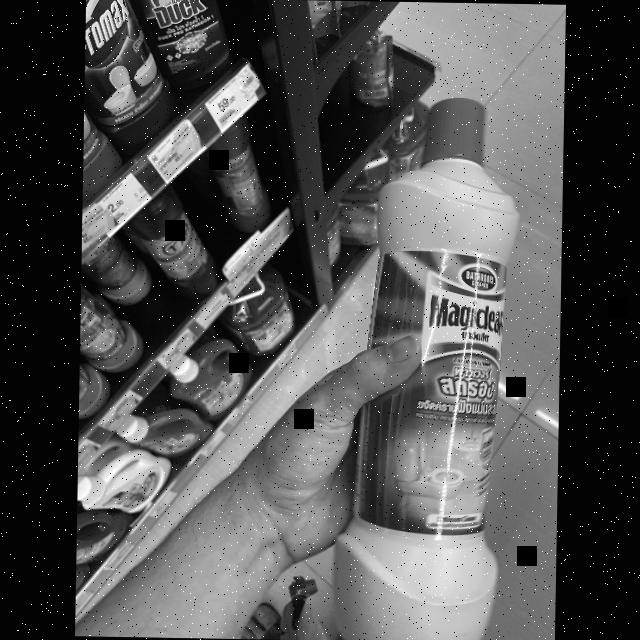chemical_plastic_bottle: (323, 83, 518, 640)
